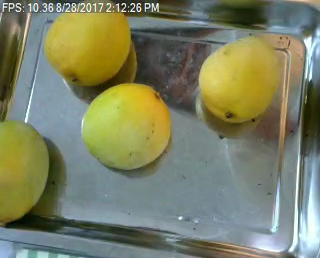Mango: (198, 36, 286, 123), (42, 0, 129, 88), (82, 83, 171, 168), (0, 122, 50, 225)
